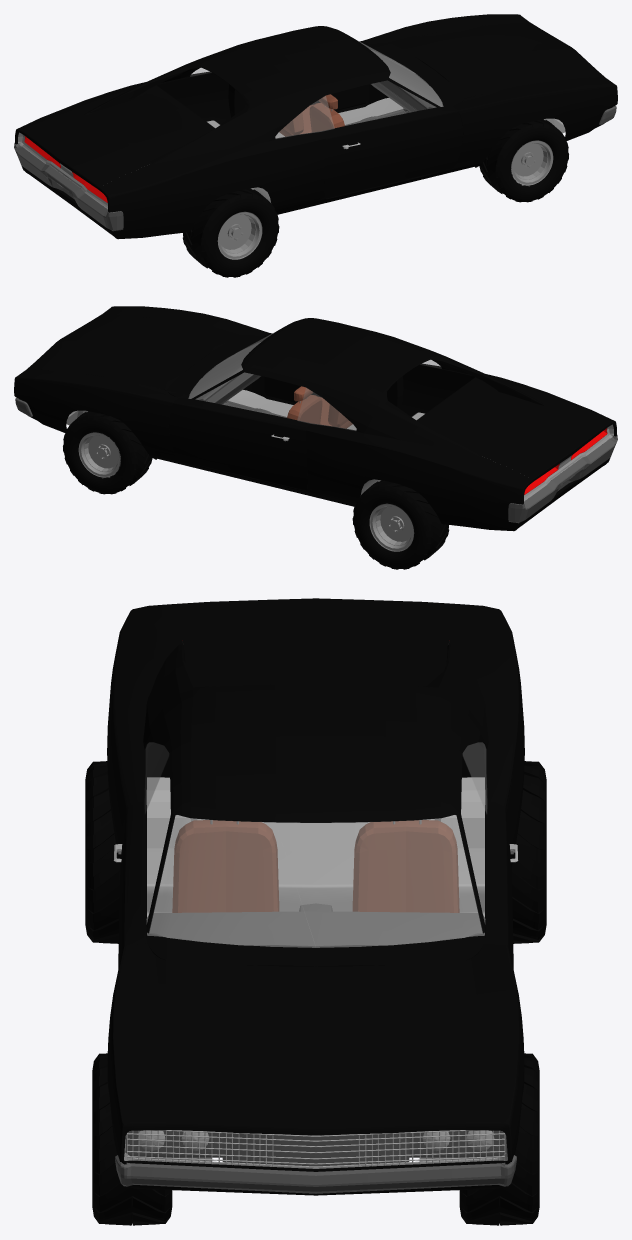
The model's file is TestCharger.fbx.
The picture shows the model from 3 angles, top to bottom: view 1: azimuth 30°, elevation 25°; view 2: azimuth 150°, elevation 25°; view 3: azimuth 270°, elevation 25°; orthographic projection. The views are drawn at different scales.
Parts seen in each view (by area): view 1: pCylinder90; view 2: pCylinder90; view 3: pCylinder90.
Part boxes in pixels (x1,y1,x2,y2): pCylinder90: [14, 14, 617, 277]; pCylinder90: [14, 306, 617, 569]; pCylinder90: [85, 598, 546, 1225].
Size of the model in its own units: 30 by 8.37 by 11.58.
